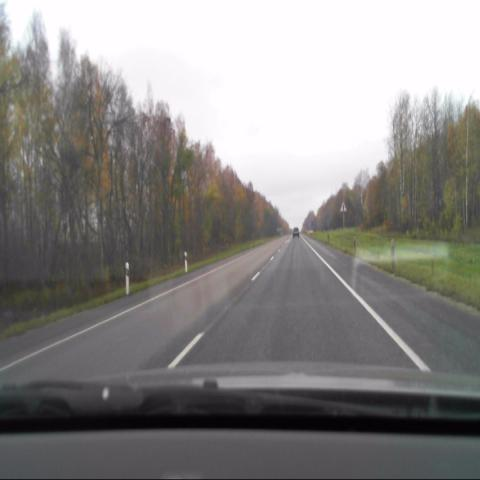2_3_2: (339, 201, 348, 215)
